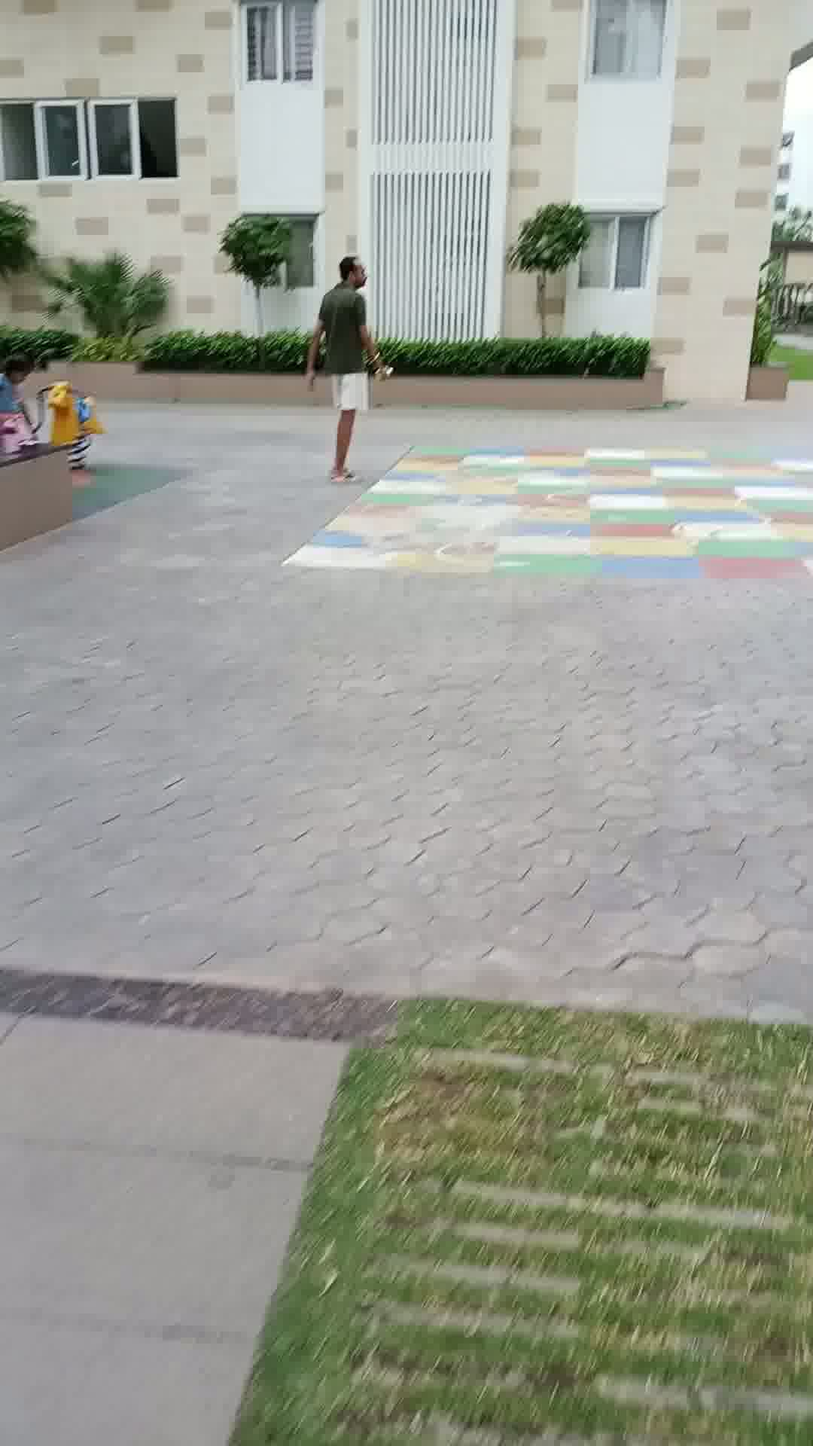person: (313, 228, 395, 478)
tree: (498, 179, 589, 416), (213, 159, 313, 370), (0, 139, 34, 314)
